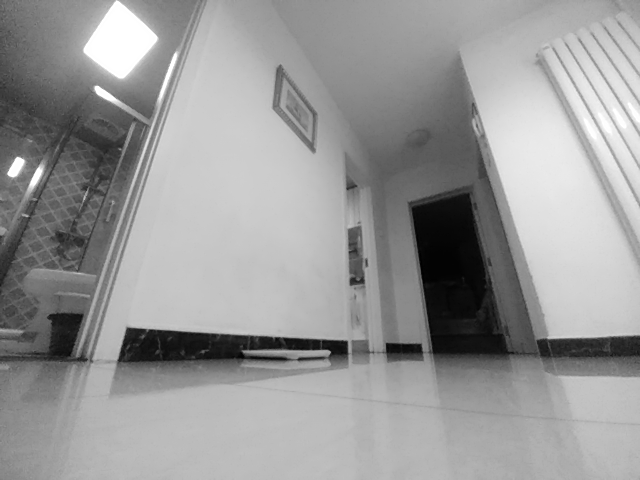scale: (241, 348, 333, 361)
